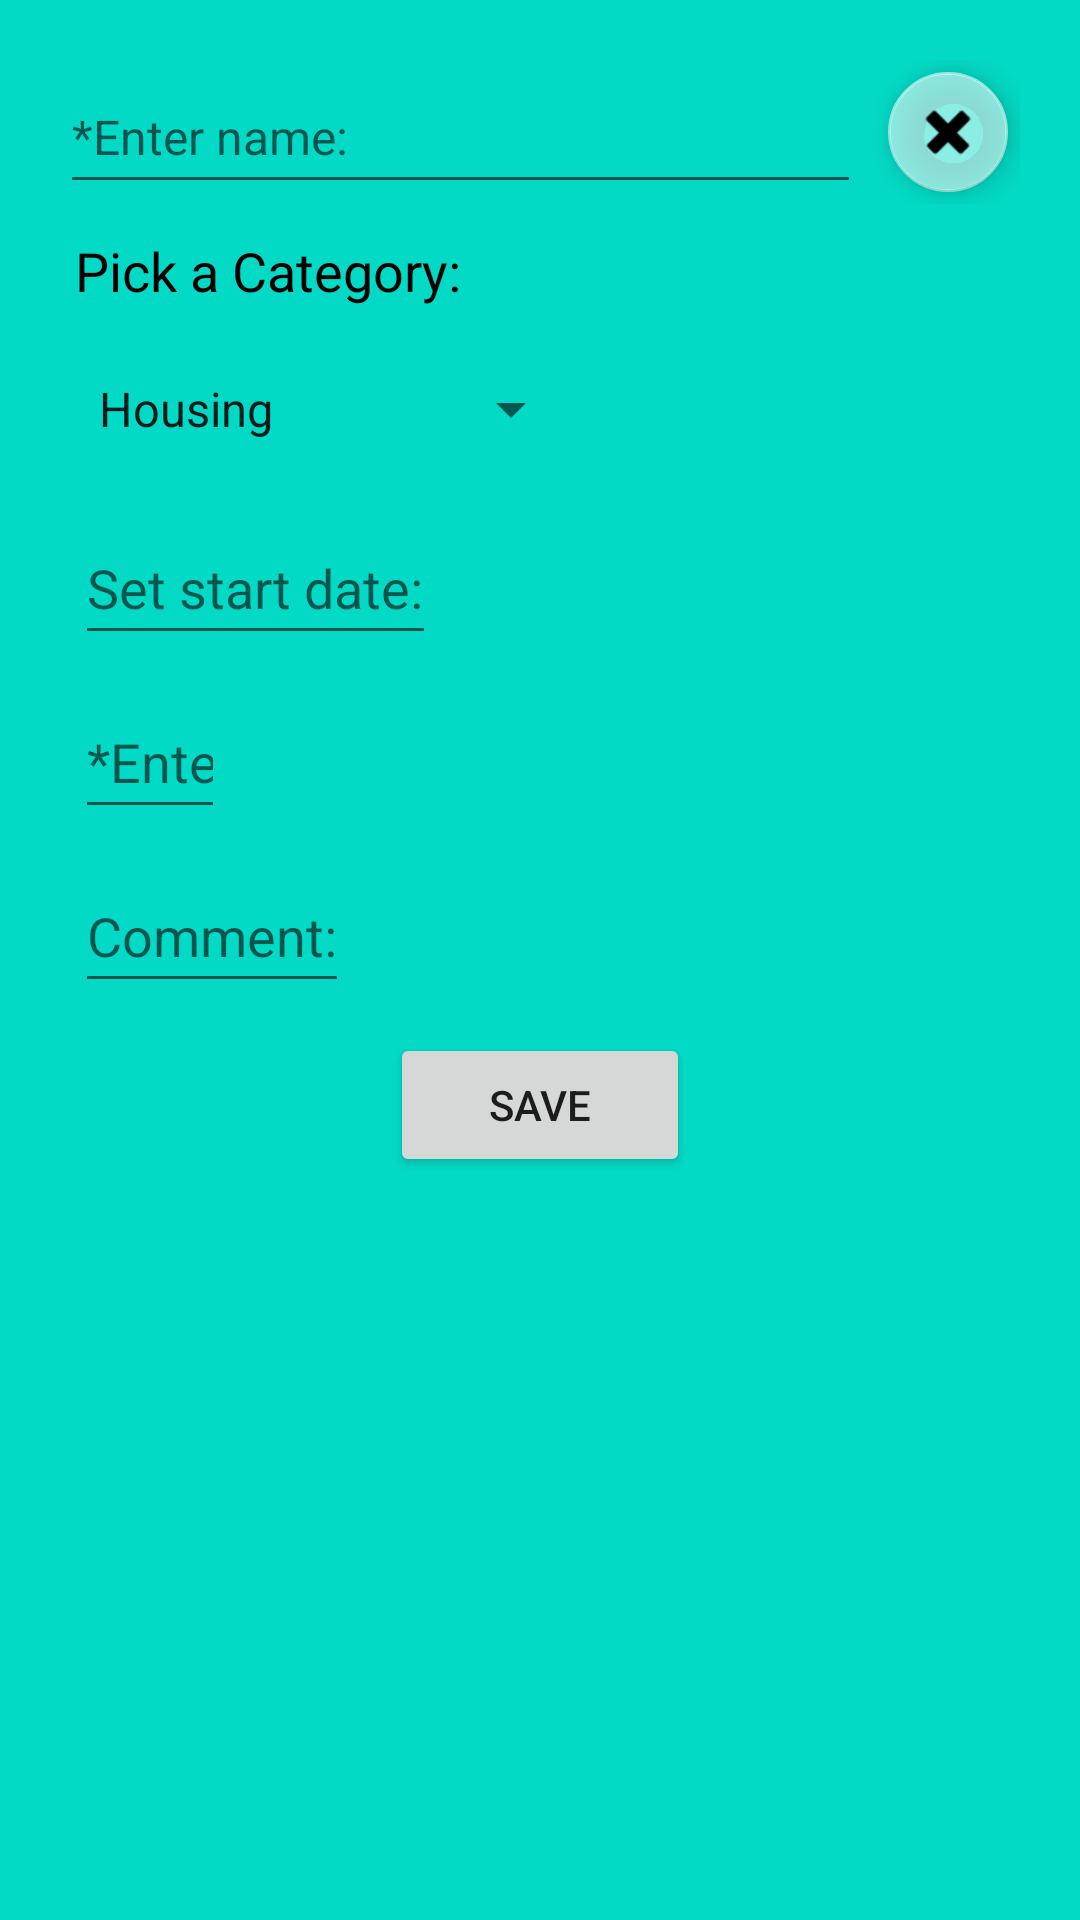

Icon bounding boxes for this 1080px×1920px phone screenshot, format [x1=x1, y1=y1, x2=x2, y2=y2]:
delete: [x1=888, y1=72, x2=1009, y2=192]
